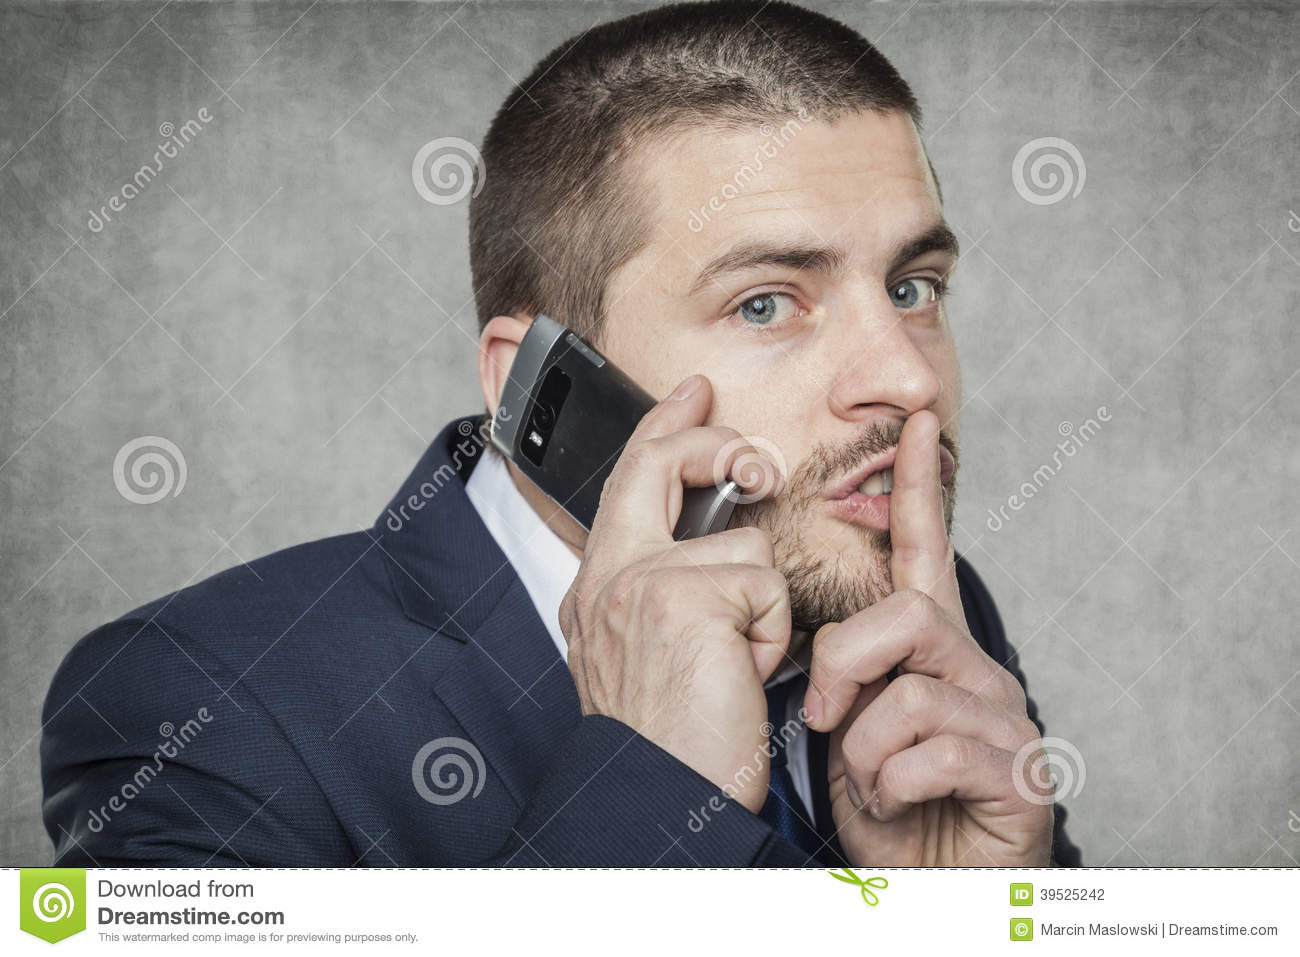phone: (490, 310, 738, 544)
talk: (491, 206, 965, 818)
